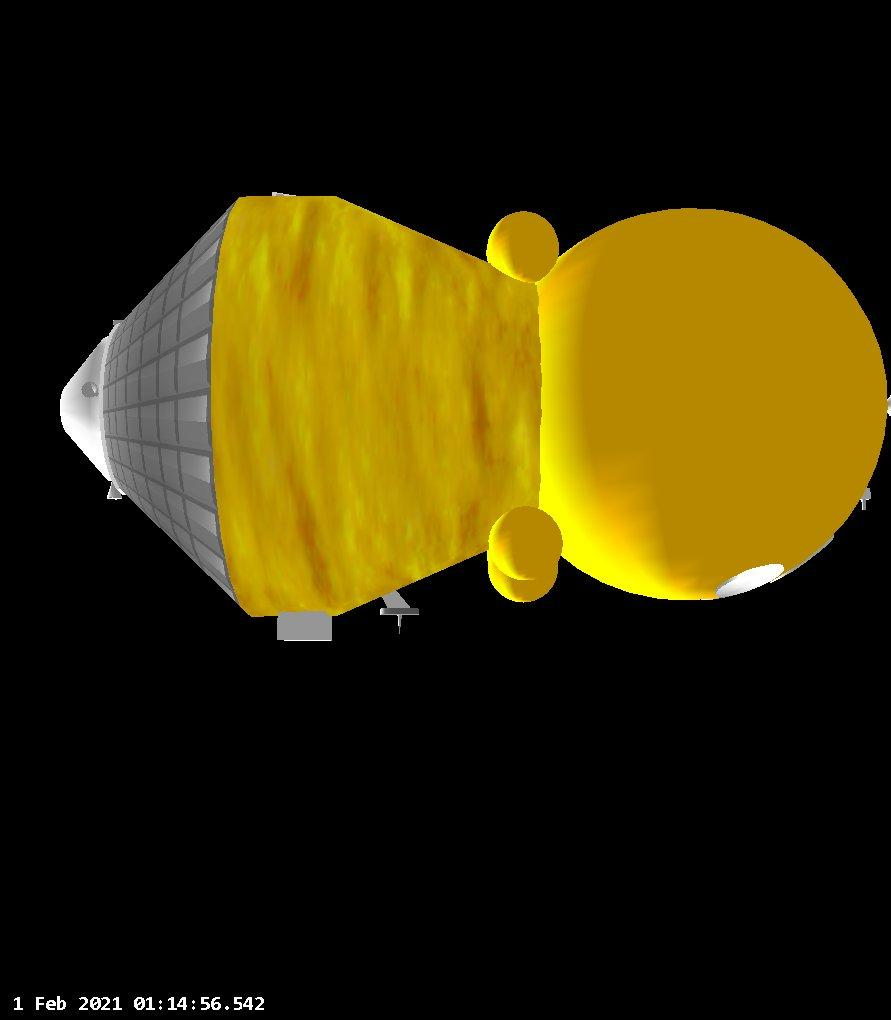antenna: (768, 533, 835, 585), (710, 558, 786, 602), (378, 604, 422, 635), (855, 485, 874, 515), (883, 391, 891, 420)
body: (59, 187, 891, 621)
thruster: (105, 478, 123, 502), (80, 380, 101, 398), (111, 318, 128, 330)
